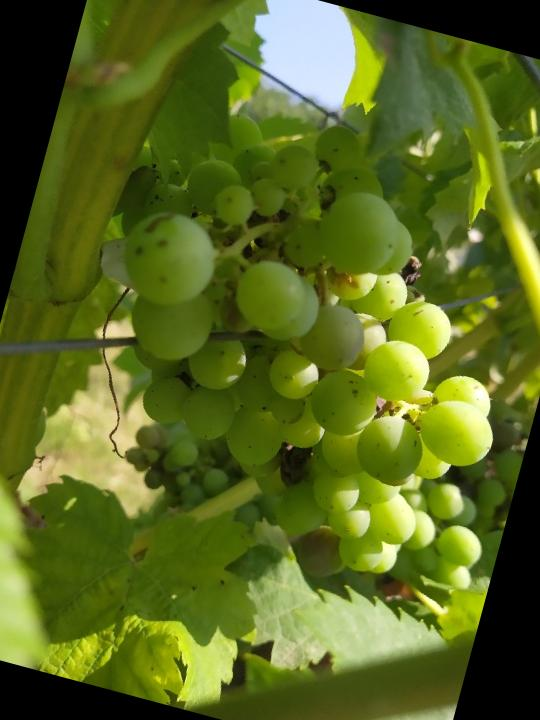grape: (39, 77, 540, 622)
